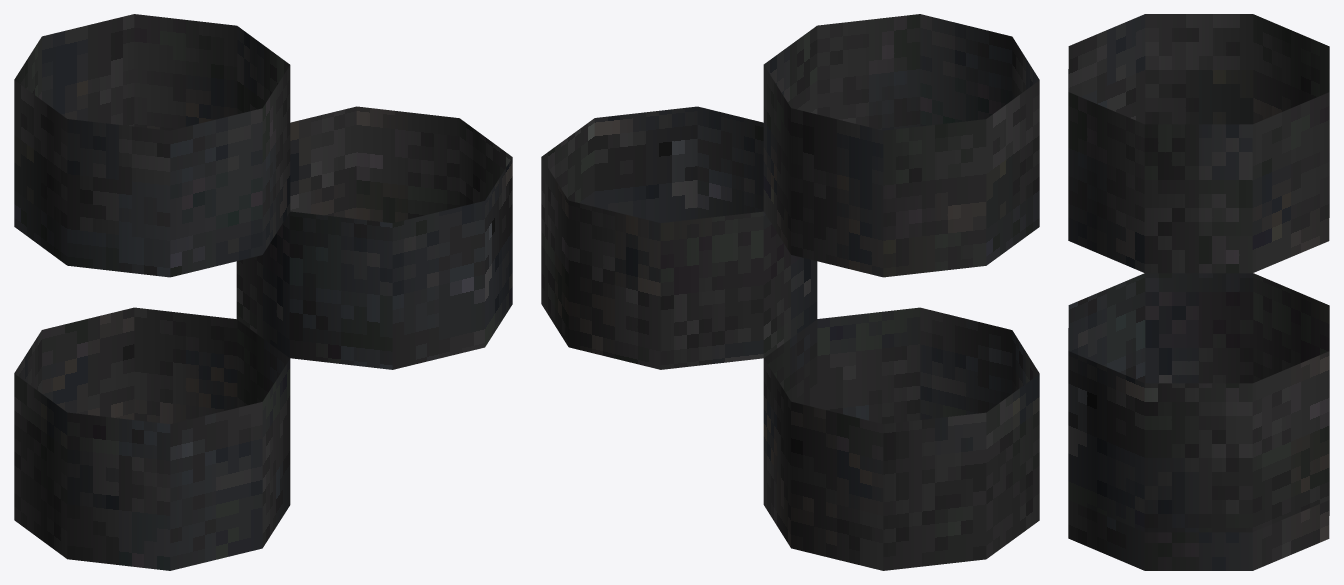
File: fx_bullet_chain_blur_LOD0.obj
3 renders of one model, left to right at view 1: azimuth 30°, elevation 25°; view 2: azimuth 150°, elevation 25°; view 3: azimuth 270°, elevation 25°, orthographic.
Visible parts, largest first — view 1: mtl_fx_bullet_chain_alpha; view 2: mtl_fx_bullet_chain_alpha; view 3: mtl_fx_bullet_chain_alpha.
Boxes of the visible parts, x1,y1,x2,y2 form: mtl_fx_bullet_chain_alpha: [14, 14, 512, 570]; mtl_fx_bullet_chain_alpha: [541, 14, 1039, 570]; mtl_fx_bullet_chain_alpha: [1068, 14, 1329, 570].
Bounding box in the file's own units: 1.7 × 1.6 × 0.8501.
